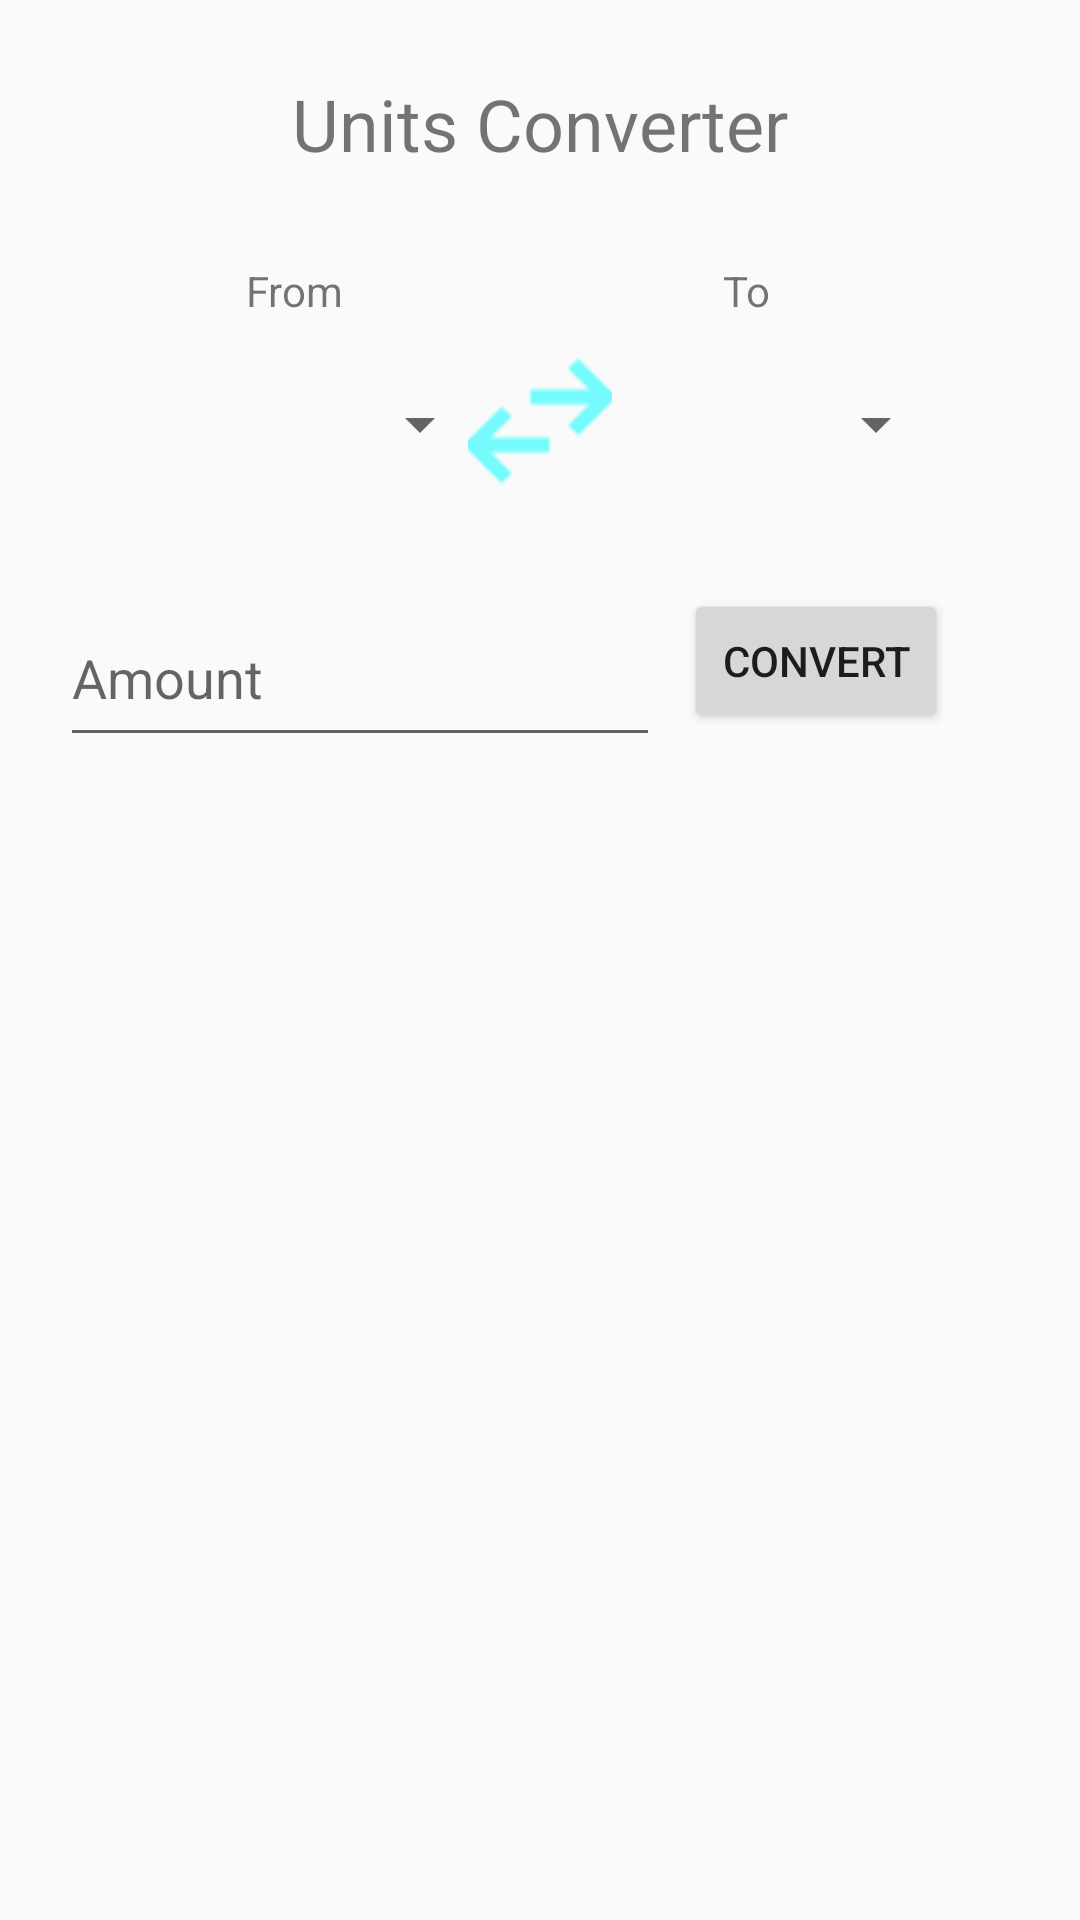

Screen size 1080 × 1920. Icon name, then its center in pixels as [x,y]:
swap: [540,421]
